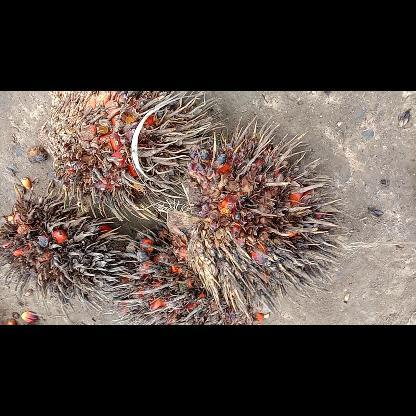Terlalu masak: (159, 113, 353, 324), (34, 90, 230, 226), (0, 178, 142, 324), (104, 222, 278, 324)
